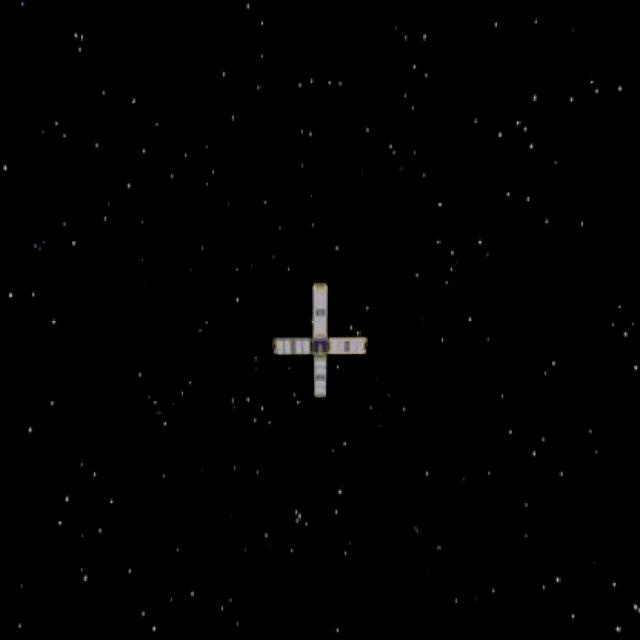medium_debris: (265, 271, 377, 412)
